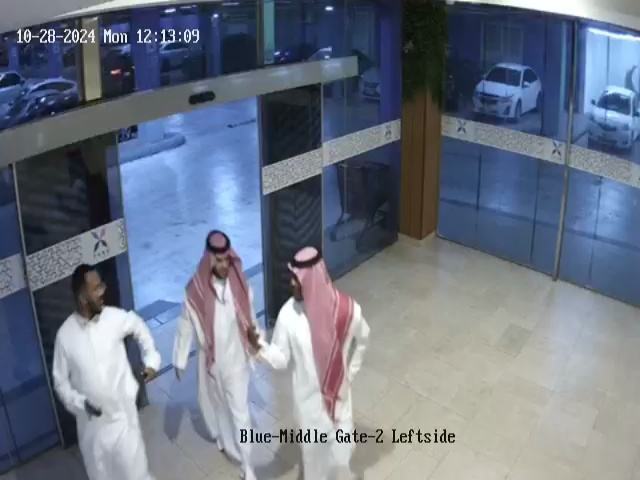male: (252, 246, 371, 479), (170, 229, 276, 480), (51, 263, 162, 480)
